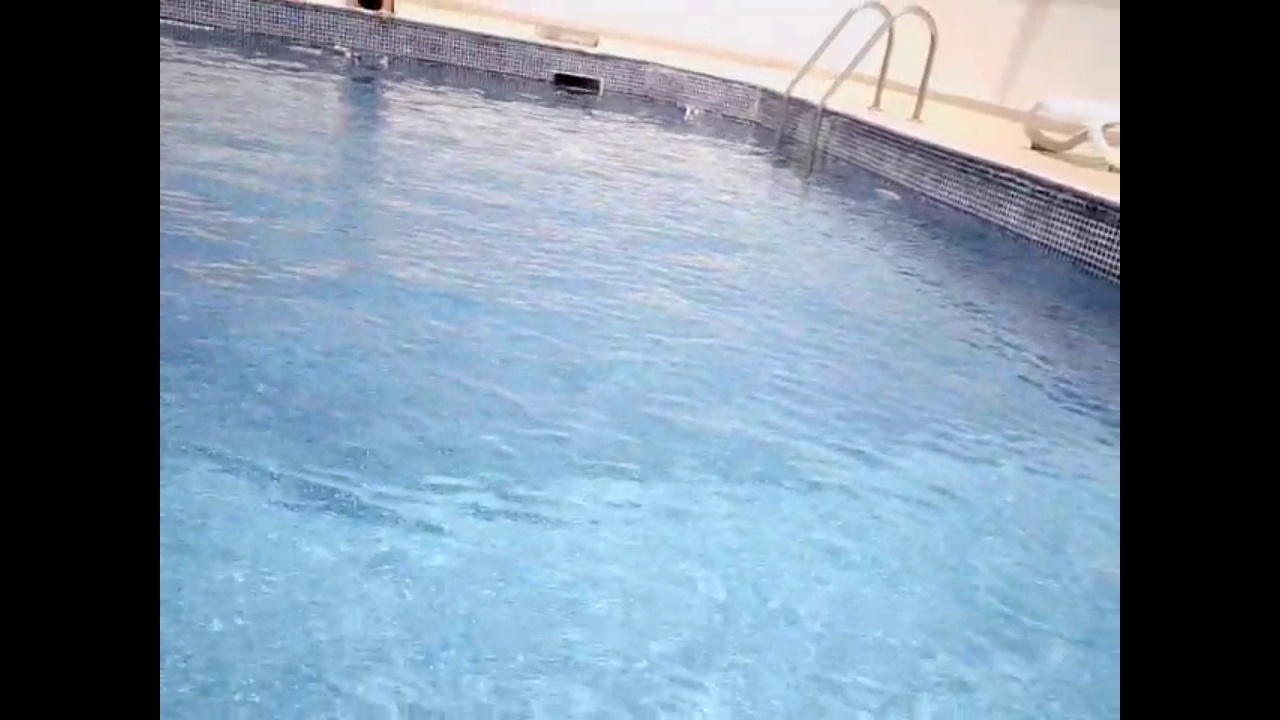debris: (667, 95, 699, 119), (366, 47, 394, 71), (674, 99, 702, 121), (326, 38, 348, 64), (343, 47, 365, 68)
